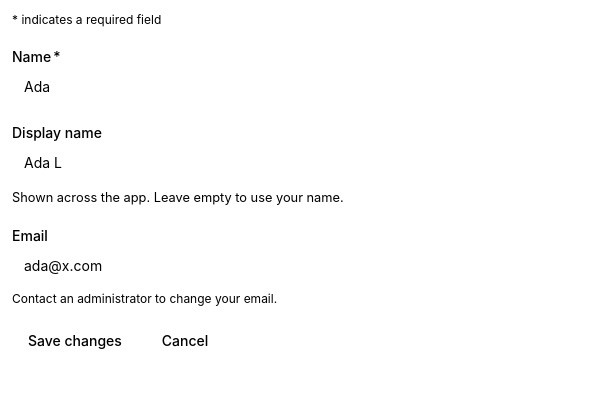
Test: ProfileForm › PATCHes and shows the saved confirmation
Type " B" into the field labelled "Name".
click(300, 86); type(" B")  # box [12,68,588,104]
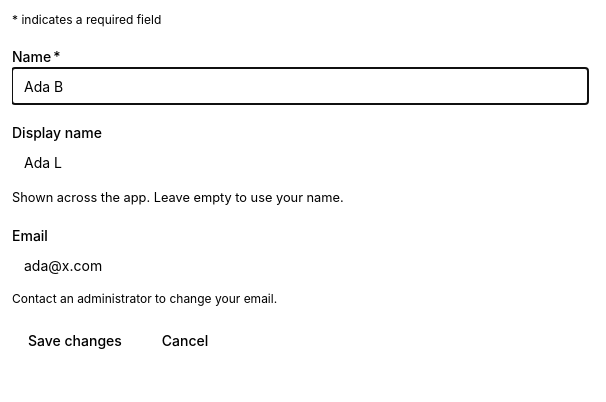
Click the button "Save changes".
click(75, 341)  # box [12,323,138,359]
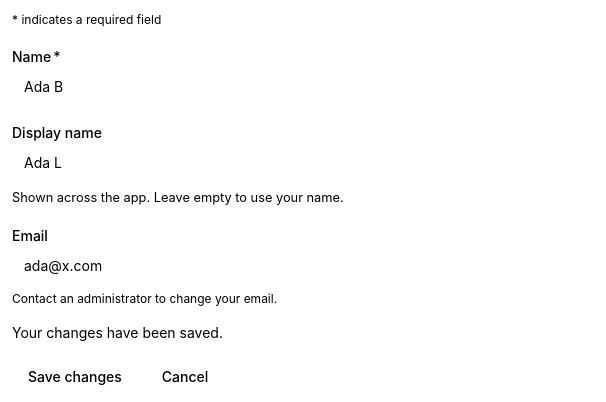
Now the message "Your changes have been saved." is shown, box [12,324,223,341]
